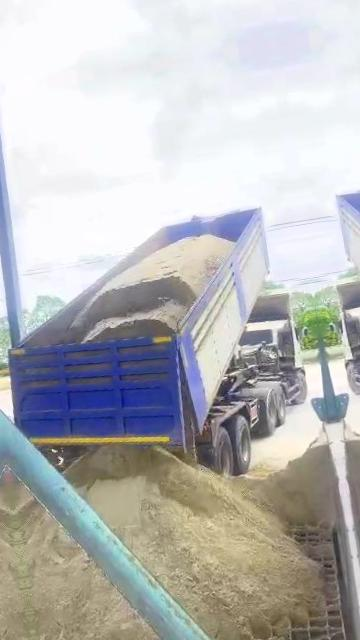sand: (66, 446, 325, 640), (7, 470, 160, 640), (70, 235, 234, 341), (180, 376, 197, 463), (248, 462, 277, 478)
